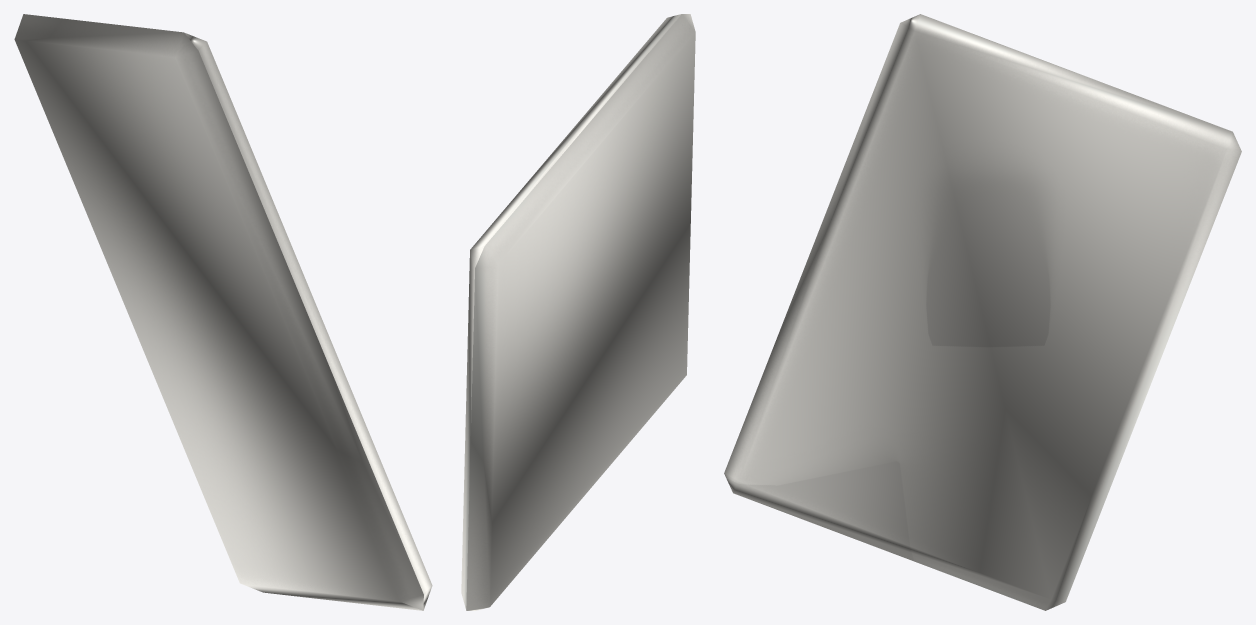
Rendered from Mascarada_Sombrero_Armadura.fbx.
3 views of the same model, side by side, from view 1: azimuth 30°, elevation 25°; view 2: azimuth 150°, elevation 25°; view 3: azimuth 270°, elevation 25° (orthographic). The views are drawn at different scales.
Visible parts, largest first — view 1: Mascarada_Sombrero_Armadura; view 2: Mascarada_Sombrero_Armadura; view 3: Mascarada_Sombrero_Armadura.
Part boxes in pixels (x1,y1,x2,y2): Mascarada_Sombrero_Armadura: (14,14,432,610); Mascarada_Sombrero_Armadura: (461,14,695,610); Mascarada_Sombrero_Armadura: (724,14,1241,610).
Size of the model in its own units: 0.1164 by 0.403 by 0.3537.
